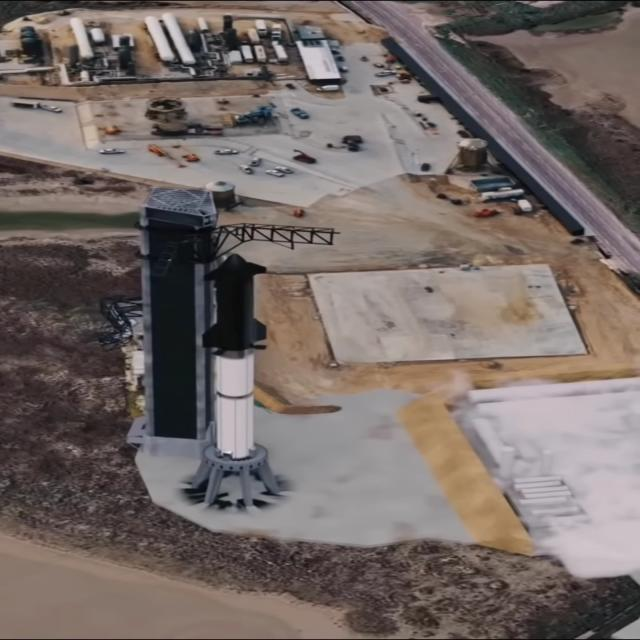Missile: (210, 247, 264, 463)
